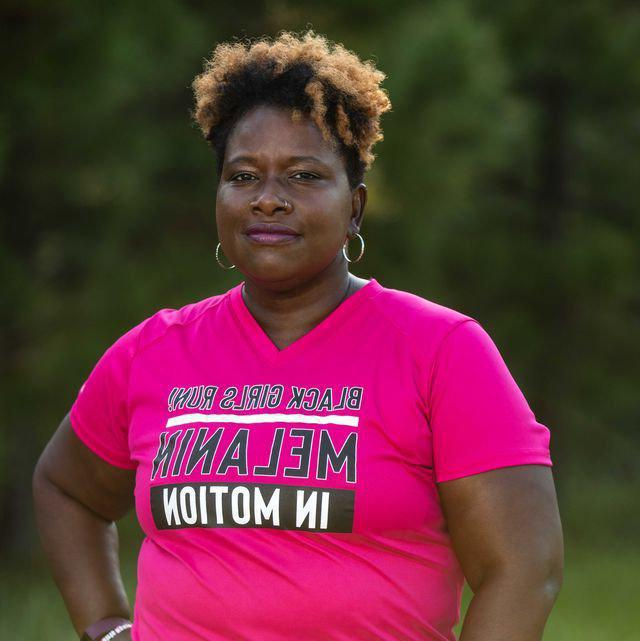Sober: (221, 122, 353, 266)
